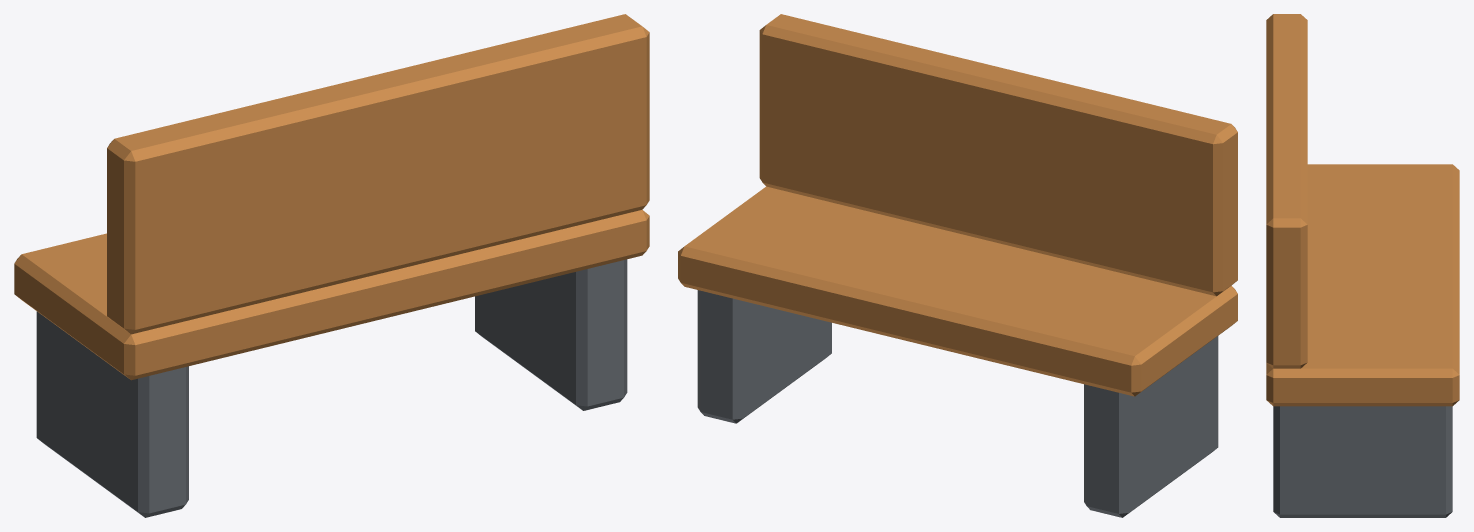
File: park_bench.glb
3 views of the same model, side by side, from view 1: azimuth 30°, elevation 25°; view 2: azimuth 150°, elevation 25°; view 3: azimuth 270°, elevation 25° (orthographic). The views are drawn at different scales.
Parts seen in each view (by area): view 1: park_bench; view 2: park_bench; view 3: park_bench.
Part boxes in pixels (<box>): park_bench: <box>14,14,649,517</box>; park_bench: <box>678,14,1237,517</box>; park_bench: <box>1266,14,1459,517</box>.
Bounding box in the file's own units: 0.36 × 0.245 × 0.14.
